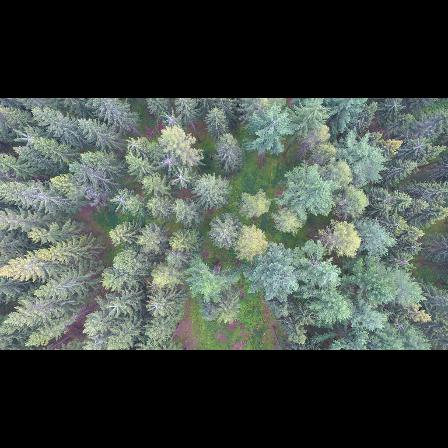Sick: (406, 132, 438, 158), (168, 163, 198, 190), (159, 105, 186, 130), (156, 150, 179, 174), (17, 128, 40, 152)
